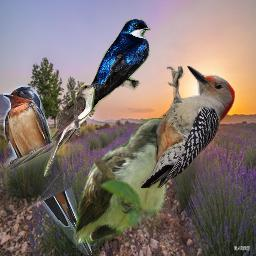Cuckoo: (72, 117, 200, 246), (44, 83, 100, 177)
Swallow: (3, 85, 92, 255), (78, 19, 151, 112)
Woodpecker: (141, 66, 235, 188)
